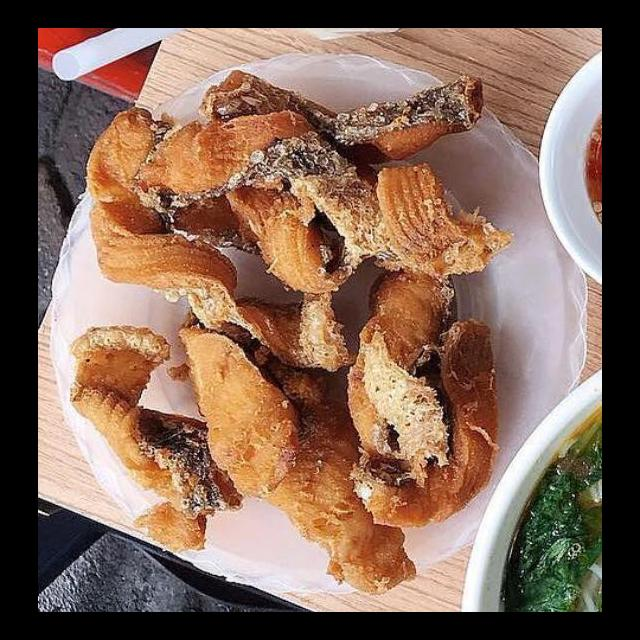ca: (80, 97, 362, 376), (163, 302, 423, 601), (214, 128, 523, 285), (63, 318, 251, 558), (190, 58, 492, 175), (345, 311, 503, 531), (339, 247, 461, 492)
